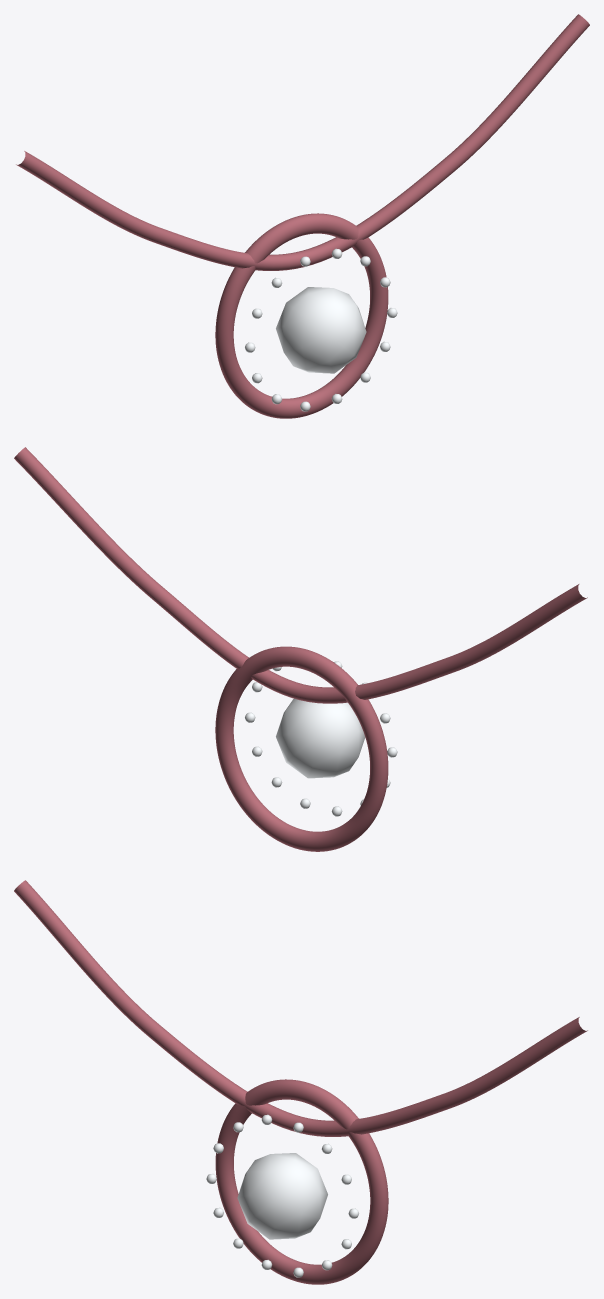
File: celestia-pendant.glb
3 renders of one model, top to bottom at view 1: azimuth 30°, elevation 25°; view 2: azimuth 150°, elevation 25°; view 3: azimuth 330°, elevation 25°, orthographic.
Visible parts, largest first — view 1: chain, pendant_frame, pendant_gem; view 2: chain, pendant_frame, pendant_gem; view 3: chain, pendant_frame, pendant_gem.
Part boxes in pixels (x1,y1,x2,y2): chain: (16, 14, 589, 270); pendant_frame: (215, 213, 388, 418); pendant_gem: (276, 287, 366, 373); chain: (14, 447, 587, 703); pendant_frame: (215, 646, 388, 851); pendant_gem: (276, 698, 365, 778); chain: (14, 880, 587, 1136); pendant_frame: (215, 1079, 388, 1284); pendant_gem: (237, 1153, 327, 1239).
Bounding box in the file's own units: 2.74 × 1.52 × 0.387.
